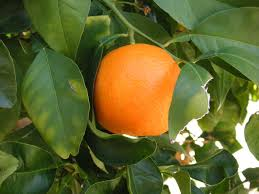orange: (90, 42, 190, 139)
